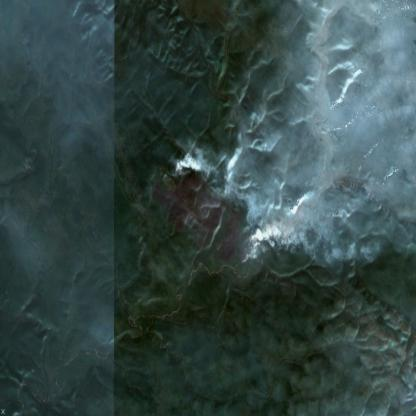fire: (234, 226, 264, 276)
